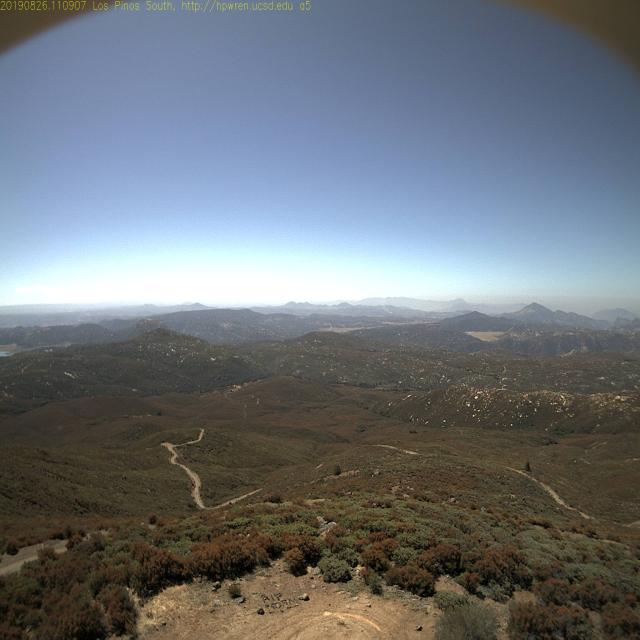smoke: (382, 303, 396, 318)
